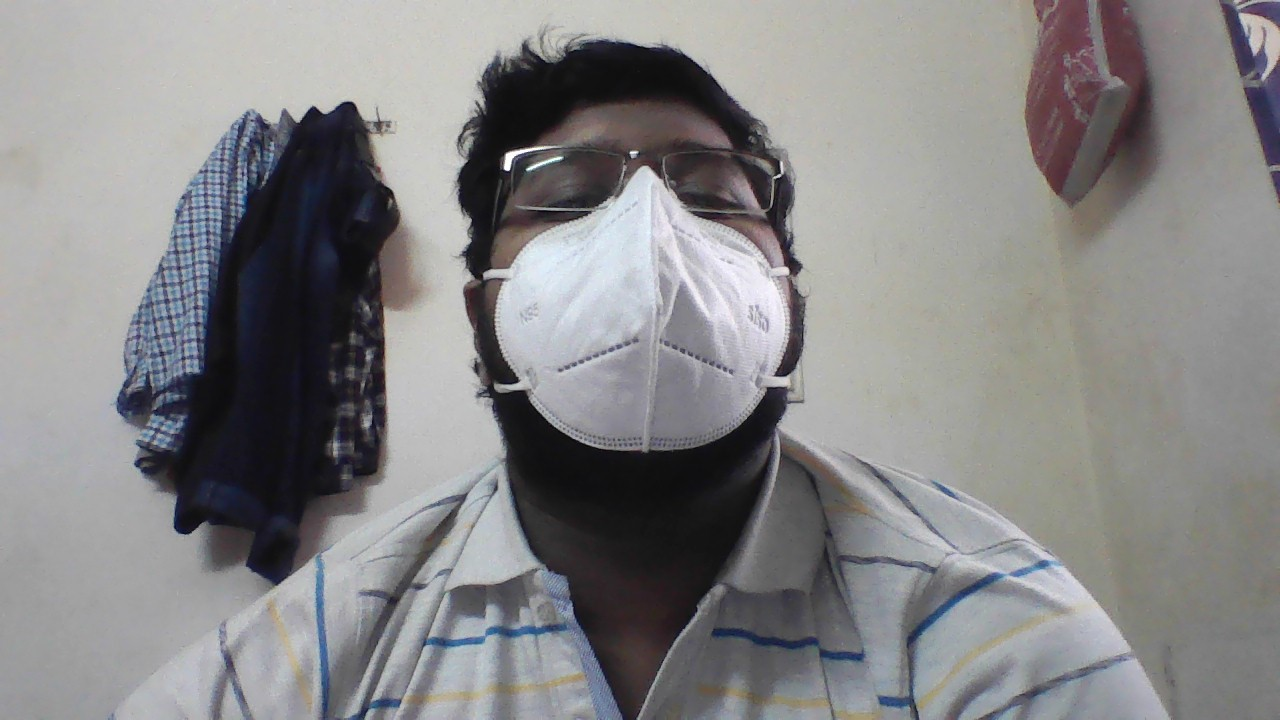Mask: (481, 186, 846, 443)
